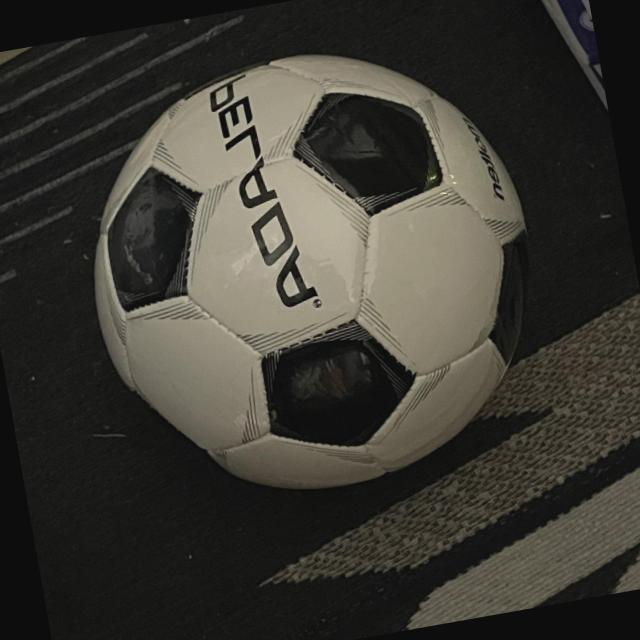Soccer Ball: (59, 23, 566, 530)
